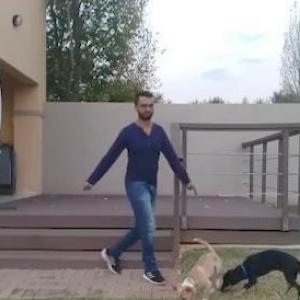land: (74, 96, 192, 290)
